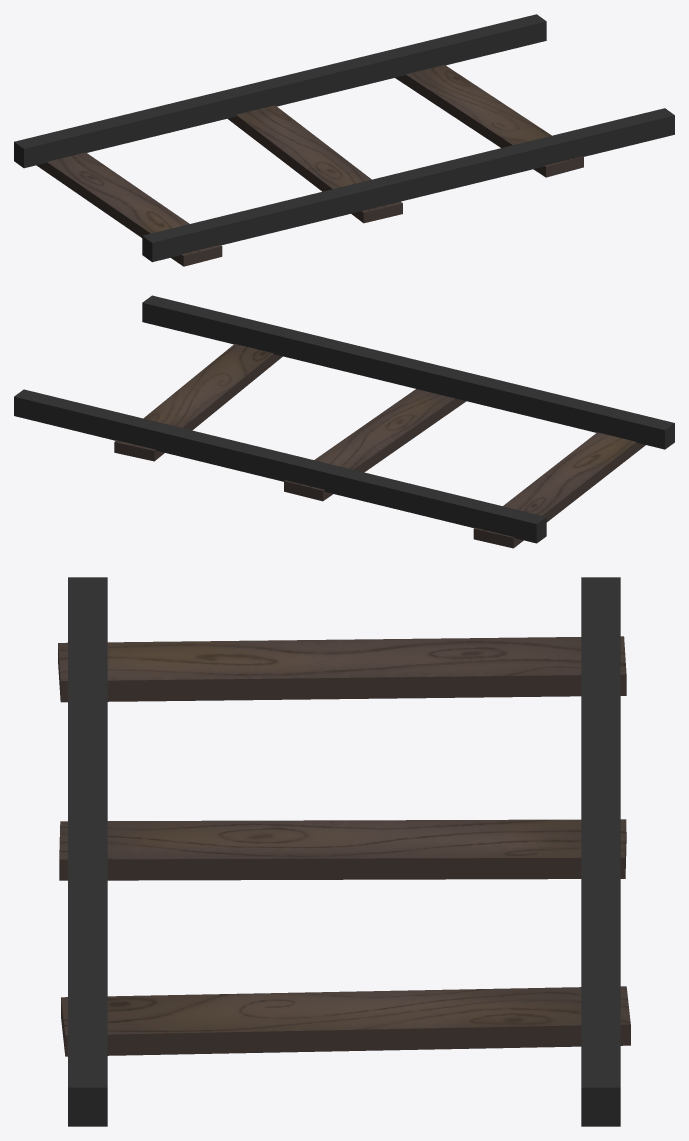
The model's file is minecart_SRail_Model.fbx.
3 renders of one model, top to bottom at view 1: azimuth 30°, elevation 25°; view 2: azimuth 150°, elevation 25°; view 3: azimuth 270°, elevation 25°, orthographic. The views are drawn at different scales.
Parts seen in each view (by area): view 1: maincart_SRail_Mesh; view 2: maincart_SRail_Mesh; view 3: maincart_SRail_Mesh.
Part boxes in pixels (x1,y1,x2,y2): maincart_SRail_Mesh: (14,14,674,266); maincart_SRail_Mesh: (14,295,674,548); maincart_SRail_Mesh: (58,577,630,1126).
Bounding box in the file's own units: 33.2 × 1.84 × 15.75.
1 material, 1 textured.
